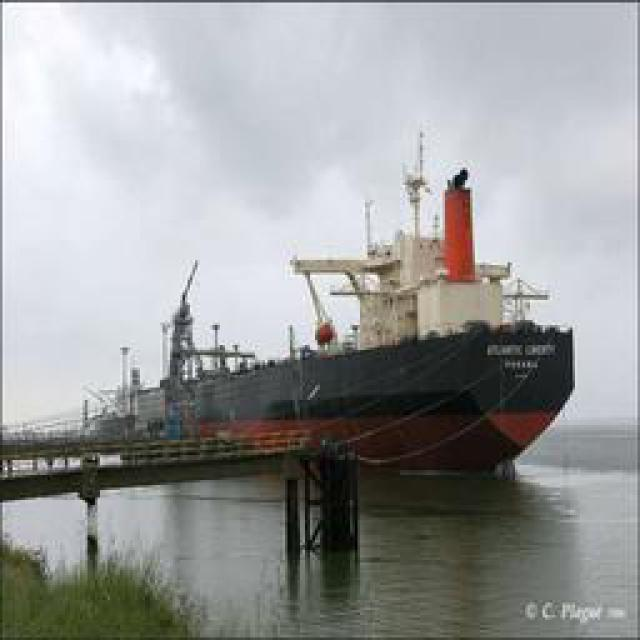Ship: (76, 162, 571, 480)
